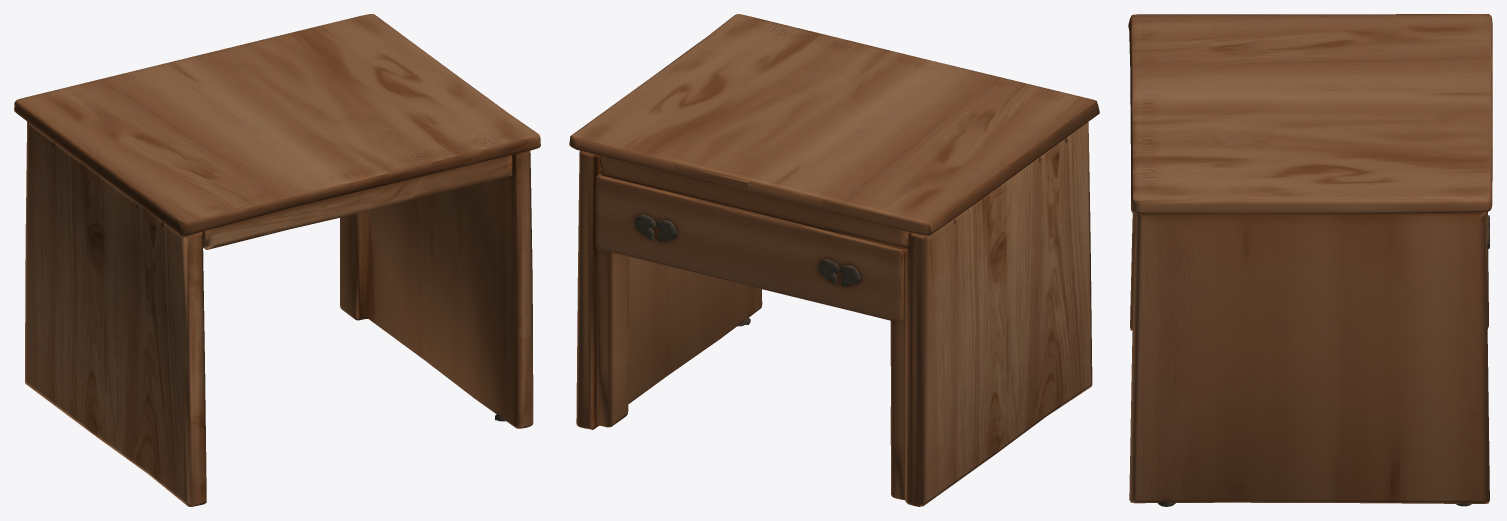
Rendered from side-table.glb.
3 views of the same model, side by side, from view 1: azimuth 30°, elevation 25°; view 2: azimuth 150°, elevation 25°; view 3: azimuth 270°, elevation 25° (orthographic). The views are drawn at different scales.
Visible parts, largest first — view 1: tripo_node_a572d54e-fefd-48b0-9456-cbbc0abee656; view 2: tripo_node_a572d54e-fefd-48b0-9456-cbbc0abee656; view 3: tripo_node_a572d54e-fefd-48b0-9456-cbbc0abee656.
Boxes of the visible parts, x1,y1,x2,y2 form: tripo_node_a572d54e-fefd-48b0-9456-cbbc0abee656: (14, 14, 540, 506); tripo_node_a572d54e-fefd-48b0-9456-cbbc0abee656: (569, 14, 1099, 506); tripo_node_a572d54e-fefd-48b0-9456-cbbc0abee656: (1128, 14, 1492, 506).
Size of the model in its own units: 1.1 by 0.8477 by 0.9.
Materials: 1 (1 with a texture image).
